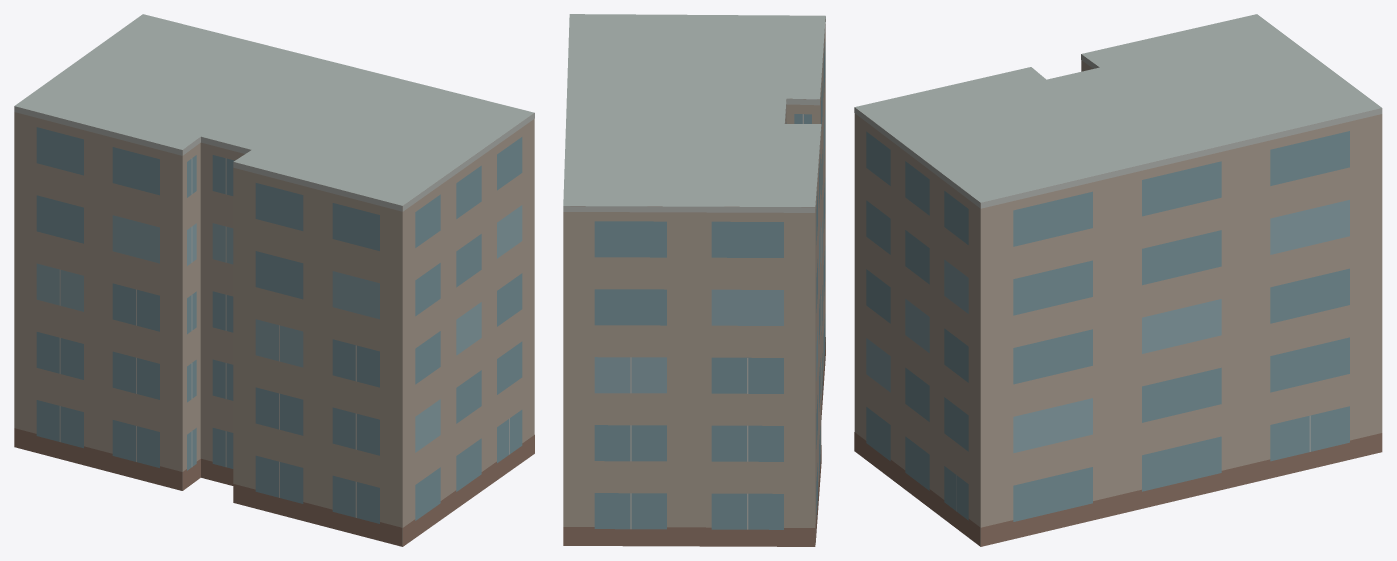
The model's file is survey-upis-32655922.glb.
3 views of the same model, side by side, from view 1: azimuth 30°, elevation 25°; view 2: azimuth 150°, elevation 25°; view 3: azimuth 270°, elevation 25° (orthographic).
Parts seen in each view (by area): view 1: survey-upis-32655922.tmp; view 2: survey-upis-32655922.tmp; view 3: survey-upis-32655922.tmp.
Boxes of the visible parts, x1,y1,x2,y2 form: survey-upis-32655922.tmp: [14, 14, 534, 546]; survey-upis-32655922.tmp: [563, 14, 825, 546]; survey-upis-32655922.tmp: [854, 14, 1382, 546].
Bounding box in the file's own units: 16.72 × 14.2 × 19.75.
